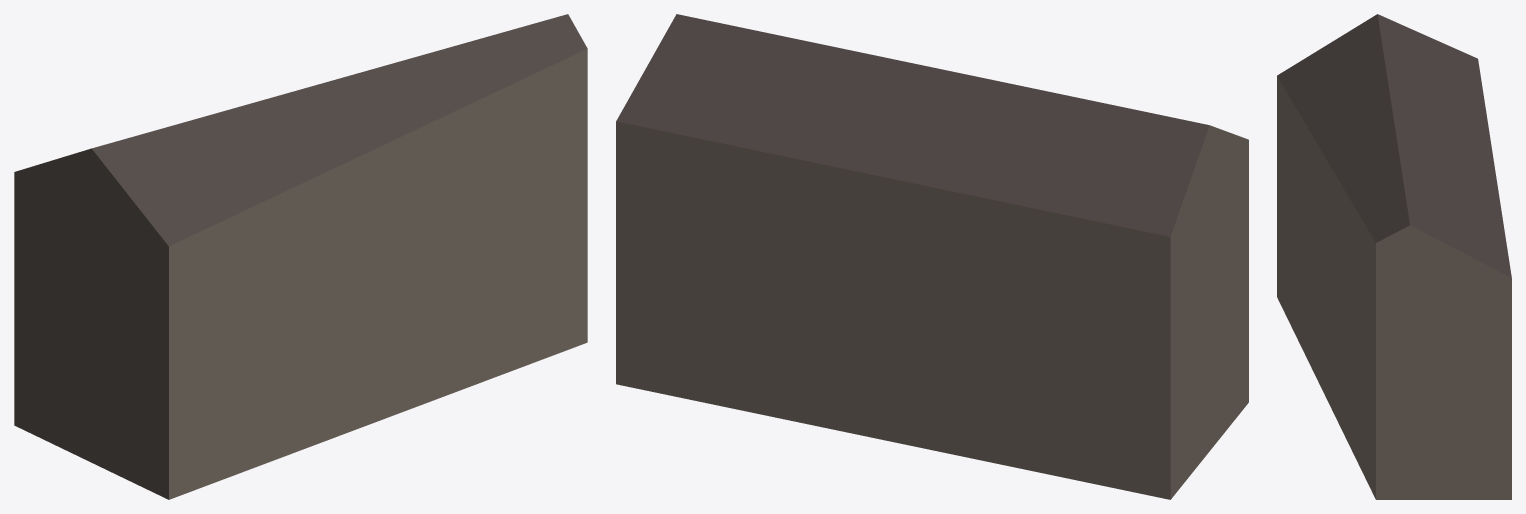
3 views of the same model, side by side, from view 1: azimuth 30°, elevation 25°; view 2: azimuth 150°, elevation 25°; view 3: azimuth 270°, elevation 25° (orthographic). The views are drawn at different scales.
Visible parts, largest first — view 1: HP-w1515071097; view 2: HP-w1515071097; view 3: HP-w1515071097.
Part boxes in pixels (x1=…): HP-w1515071097: x1=14, y1=14, x2=587, y2=499; HP-w1515071097: x1=616, y1=14, x2=1248, y2=499; HP-w1515071097: x1=1277, y1=14, x2=1511, y2=499.
Bounding box in the file's own units: 12.76 × 7.44 × 5.77.
